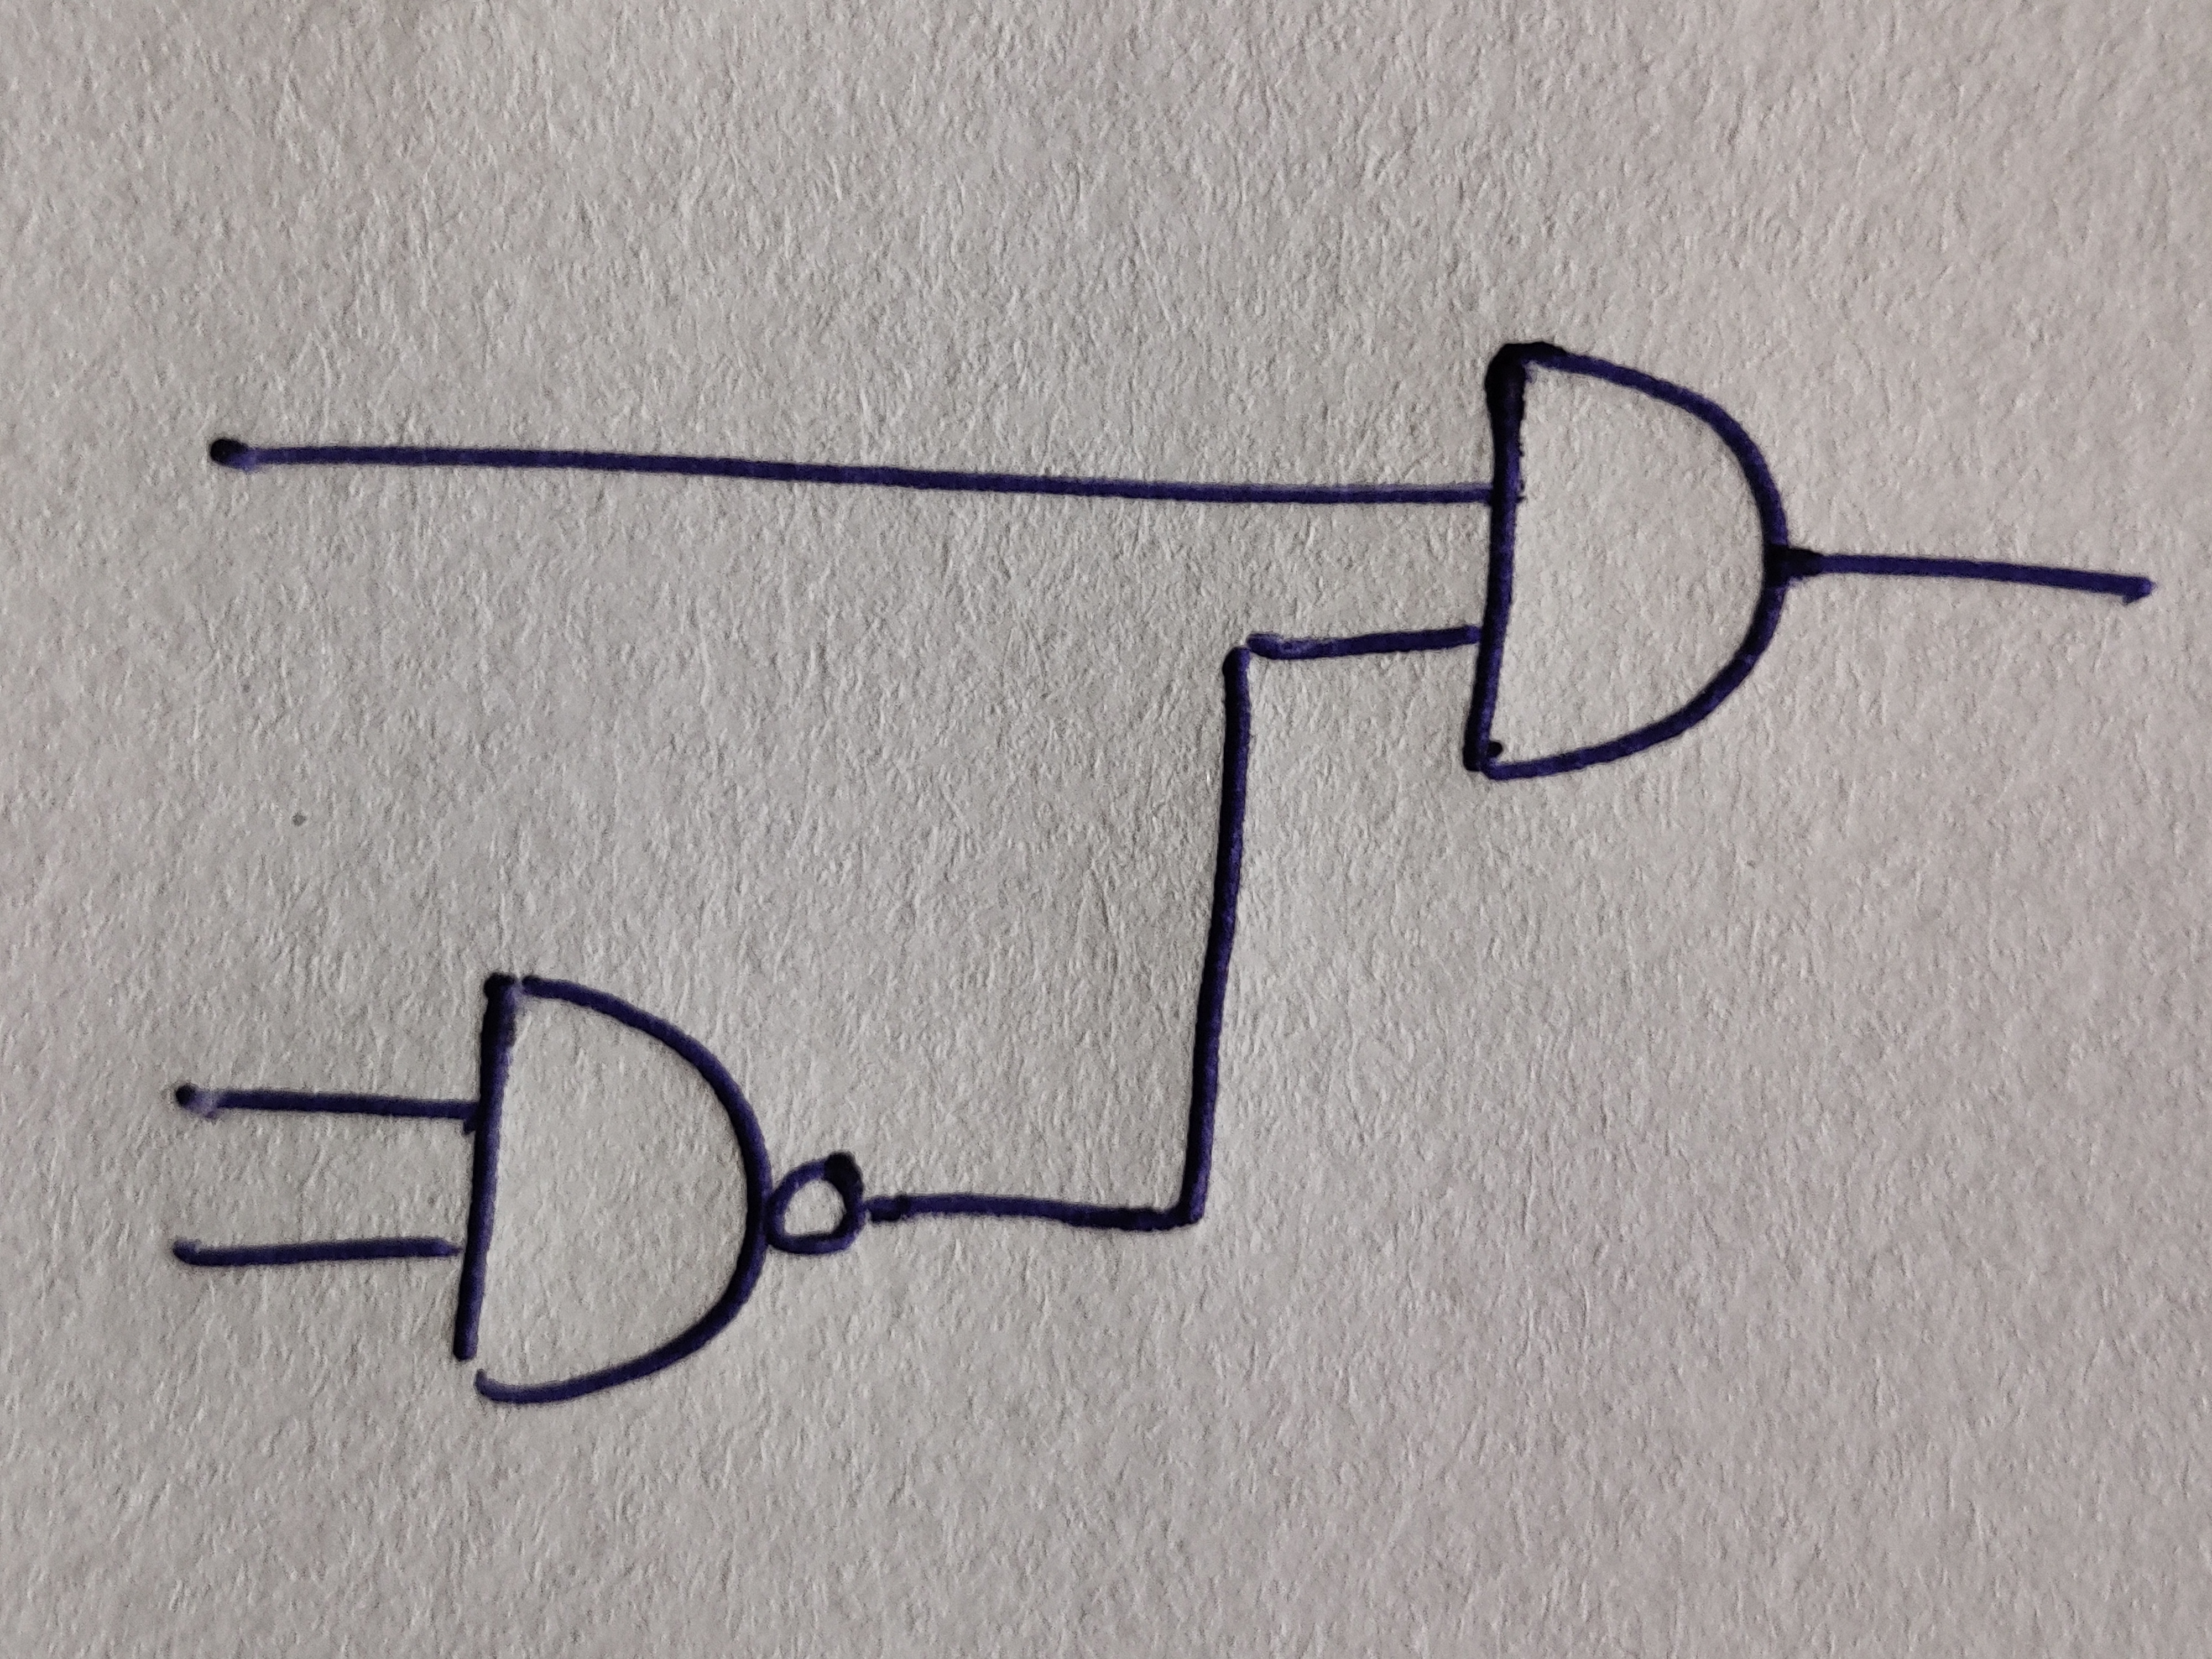and: (1463, 342, 1789, 781), (453, 972, 772, 1401)
not: (768, 1154, 864, 1255)
